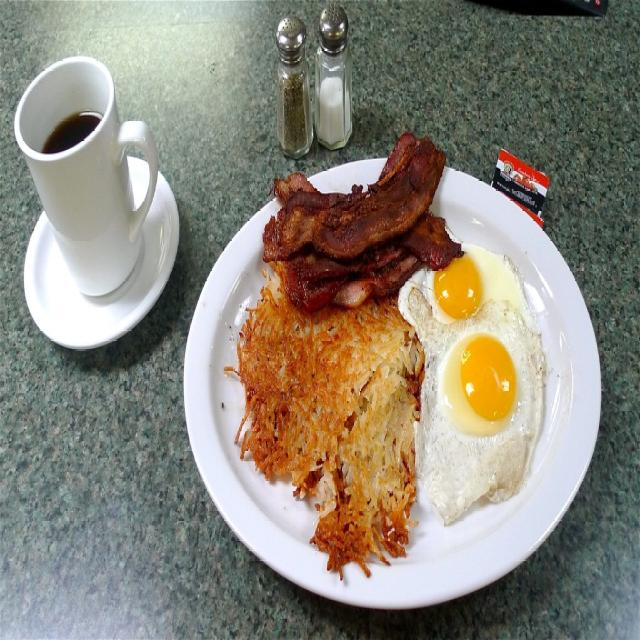Coffee: (40, 107, 105, 152)
Tea: (40, 114, 100, 152)
